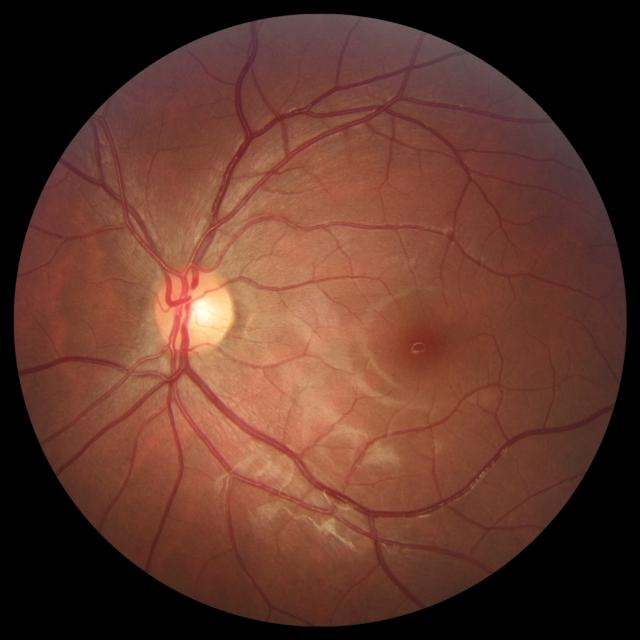OC: (180, 291, 214, 326)
OD: (150, 266, 237, 356)
